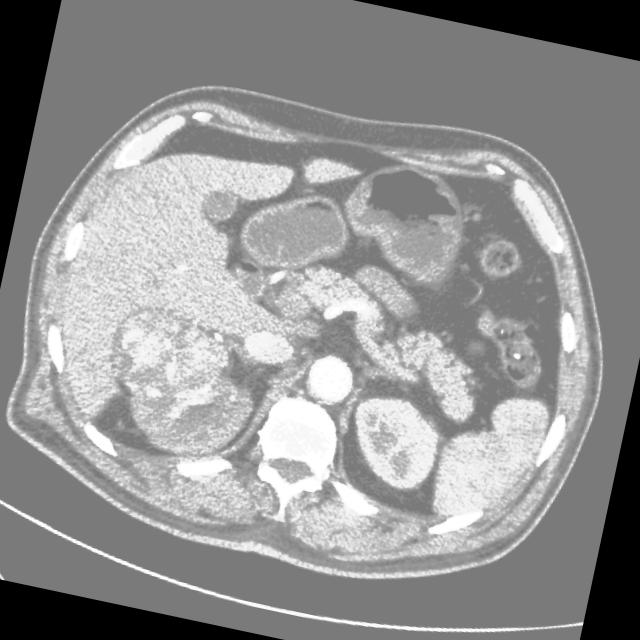TUMOR: (137, 122, 577, 497)
